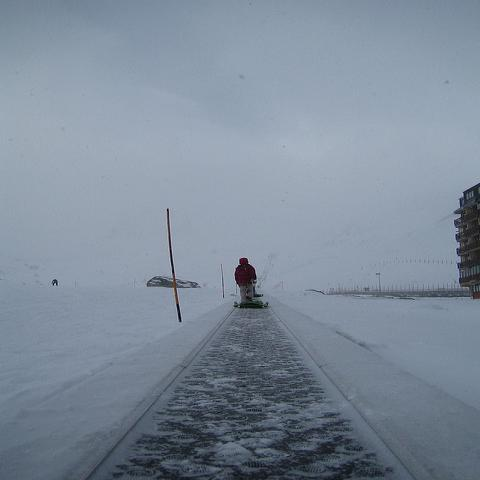car: (147, 276, 200, 288)
